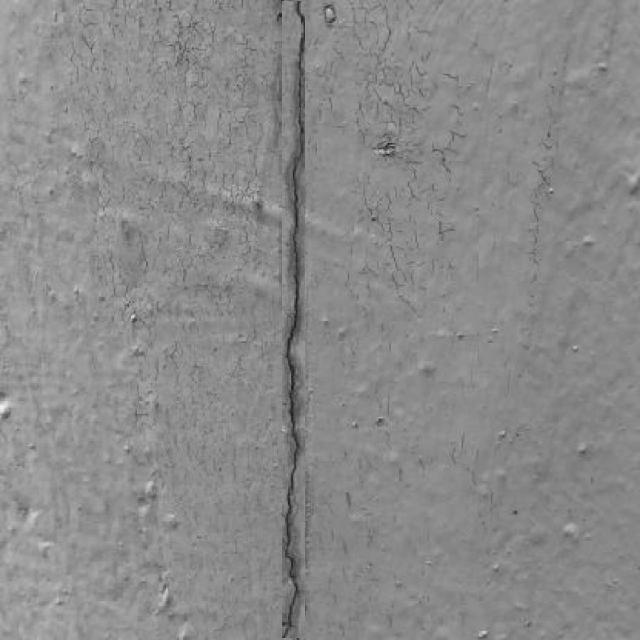vertical crack: (283, 1, 304, 638)
